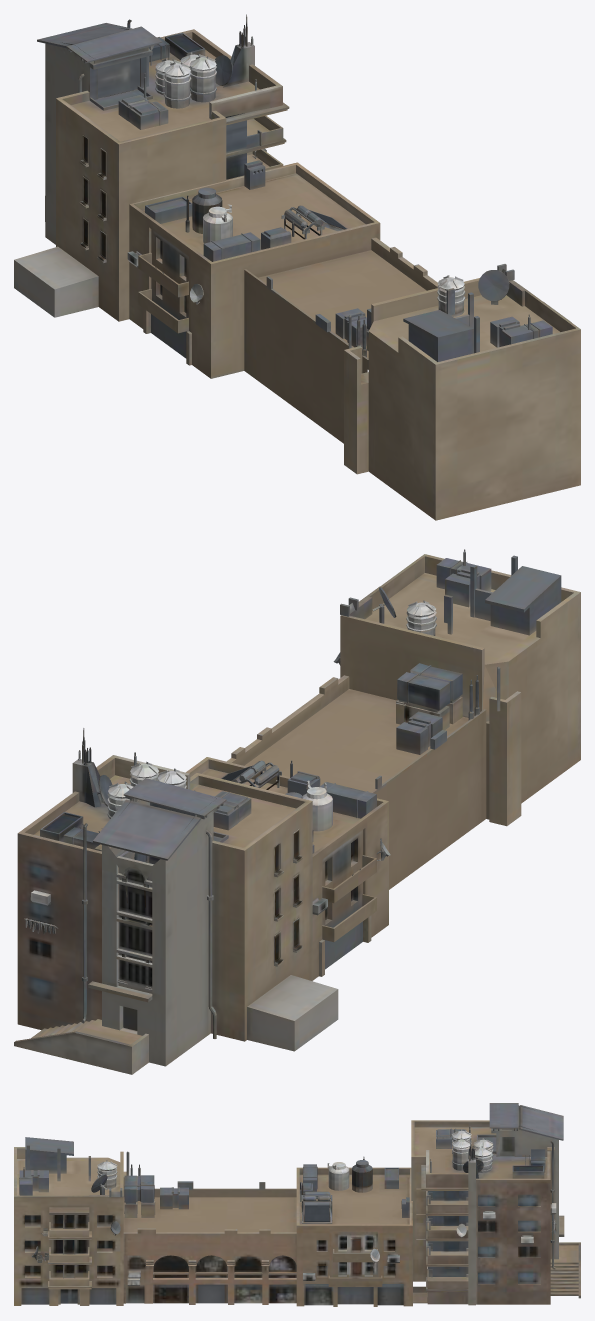
File: bigres.glb
3 views of the same model, one above another, from view 1: azimuth 30°, elevation 25°; view 2: azimuth 150°, elevation 25°; view 3: azimuth 270°, elevation 25° (orthographic). The views are drawn at different scales.
Visible parts, largest first — view 1: tripo_node_5fcfa63d-b66d-49ba-92ac-6926691641fe; view 2: tripo_node_5fcfa63d-b66d-49ba-92ac-6926691641fe; view 3: tripo_node_5fcfa63d-b66d-49ba-92ac-6926691641fe.
Boxes of the visible parts, <box> form: tripo_node_5fcfa63d-b66d-49ba-92ac-6926691641fe: <box>14,14,580,520</box>; tripo_node_5fcfa63d-b66d-49ba-92ac-6926691641fe: <box>14,549,580,1074</box>; tripo_node_5fcfa63d-b66d-49ba-92ac-6926691641fe: <box>14,1103,580,1306</box>.
Bounding box in the file's own units: 0.3491 × 0.3208 × 0.9995.
1 material, 1 textured.
